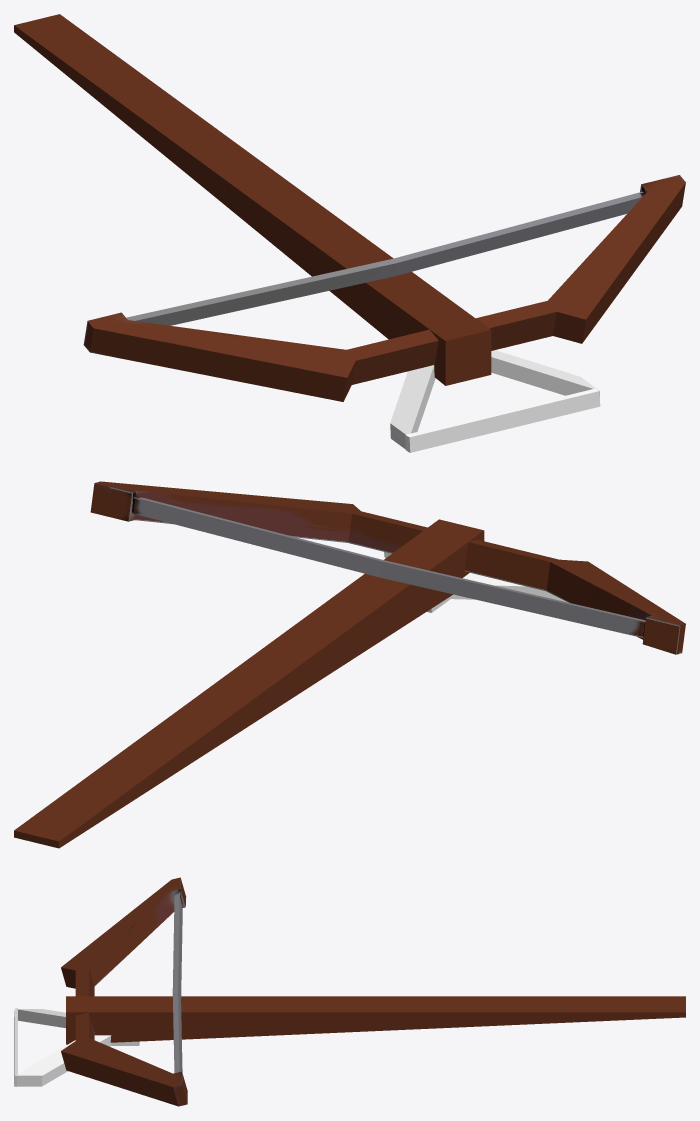
File: CrossBow.dae
The picture shows the model from 3 angles, top to bottom: view 1: azimuth 30°, elevation 25°; view 2: azimuth 150°, elevation 25°; view 3: azimuth 270°, elevation 25°; orthographic projection. The views are drawn at different scales.
Visible parts, largest first — view 1: Cube.002, Cube, Cube.004, Cube.003; view 2: Cube, Cube.002, Cube.004; view 3: Cube, Cube.002, Cube.003, Cube.004.
Part boxes in pixels (left/top/right/bottom): Cube.002: left=83, top=175, right=685, bottom=401; Cube: left=14, top=14, right=491, bottom=385; Cube.004: left=390, top=365, right=600, bottom=452; Cube.003: left=491, top=350, right=599, bottom=395; Cube: left=14, top=519, right=484, bottom=848; Cube.002: left=90, top=481, right=685, bottom=654; Cube.004: left=427, top=573, right=567, bottom=612; Cube: left=66, top=996, right=685, bottom=1044; Cube.002: left=61, top=877, right=187, bottom=1106; Cube.003: left=14, top=1035, right=139, bottom=1086; Cube.004: left=14, top=1007, right=65, bottom=1086.
Bounding box in the file's own units: 1.59 × 2.17 × 0.2515.
4 materials, 4 textured.
